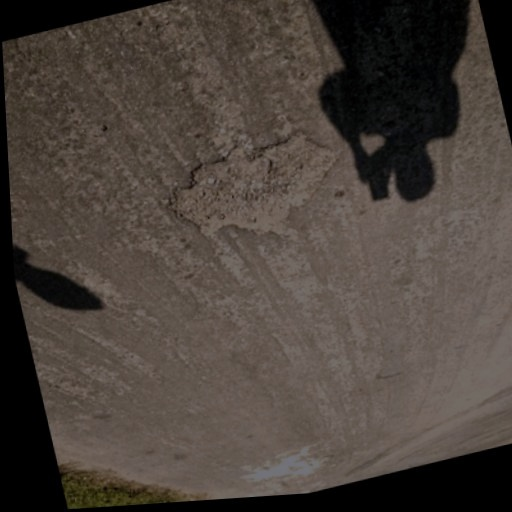pothole: (153, 117, 360, 265)
